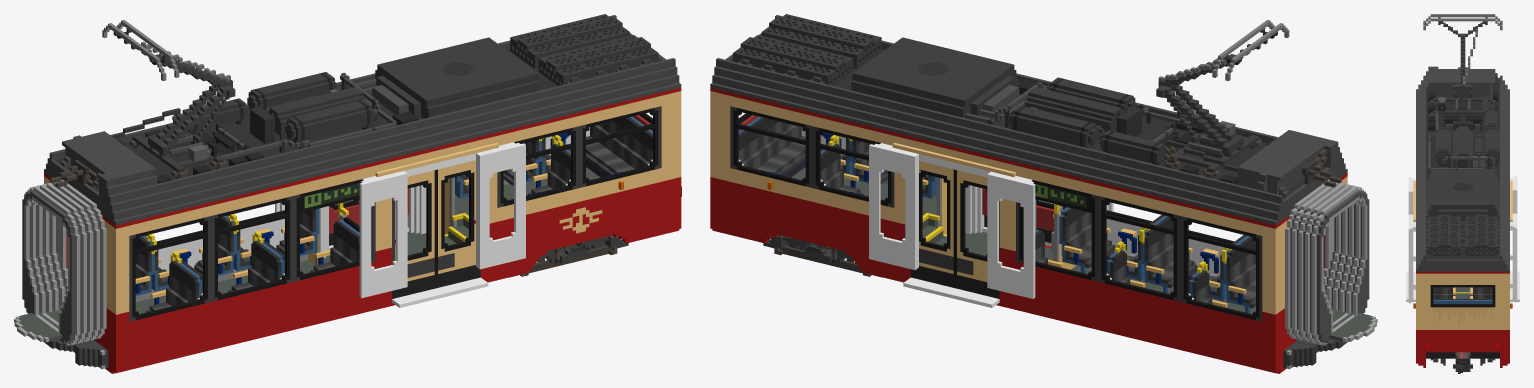
Rendered from fbbe46r.obj.
3 views of the same model, side by side, from view 1: azimuth 30°, elevation 25°; view 2: azimuth 150°, elevation 25°; view 3: azimuth 270°, elevation 25° (orthographic). The views are drawn at different scales.
Visible parts, largest first — view 1: FRAME, dlopen, dlclosed, BOGEY_REAR, drclosed; view 2: FRAME, dropen, drclosed, BOGEY_REAR, dlclosed; view 3: FRAME, dropen, dlopen.
Boxes of the visible parts, x1,y1,x2,y2 form: FRAME: (14,14,681,373); dlopen: (359,142,525,307); dlclosed: (392,160,480,298); BOGEY_REAR: (520,235,628,276); drclosed: (329,188,409,245); FRAME: (710,14,1377,373); dropen: (869,143,1035,307); drclosed: (911,161,999,298); BOGEY_REAR: (763,235,871,276); dlclosed: (982,188,1053,246); FRAME: (1413,14,1512,373); dropen: (1510,176,1519,302); dlopen: (1406,177,1415,303).
Size of the model in its own units: 12.5 by 5.69 by 2.88.
Materials: 5 (5 with a texture image).
